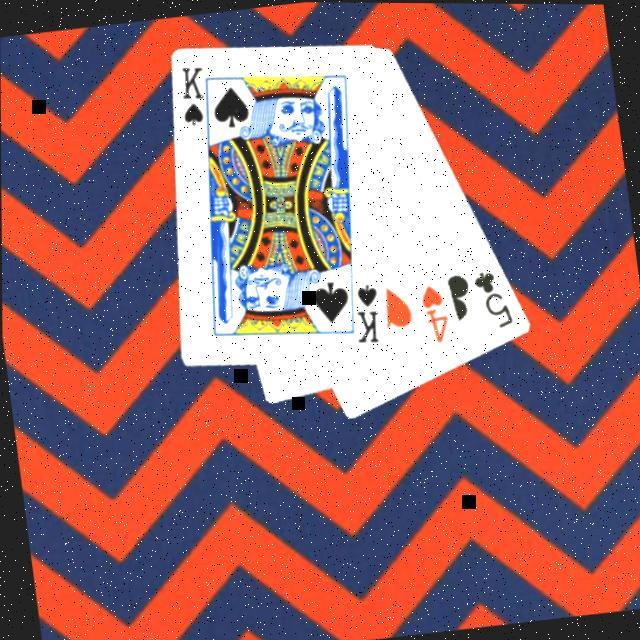4H: (418, 281, 456, 347)
5C: (471, 265, 519, 333)
KS: (175, 63, 221, 139), (349, 280, 388, 349)
